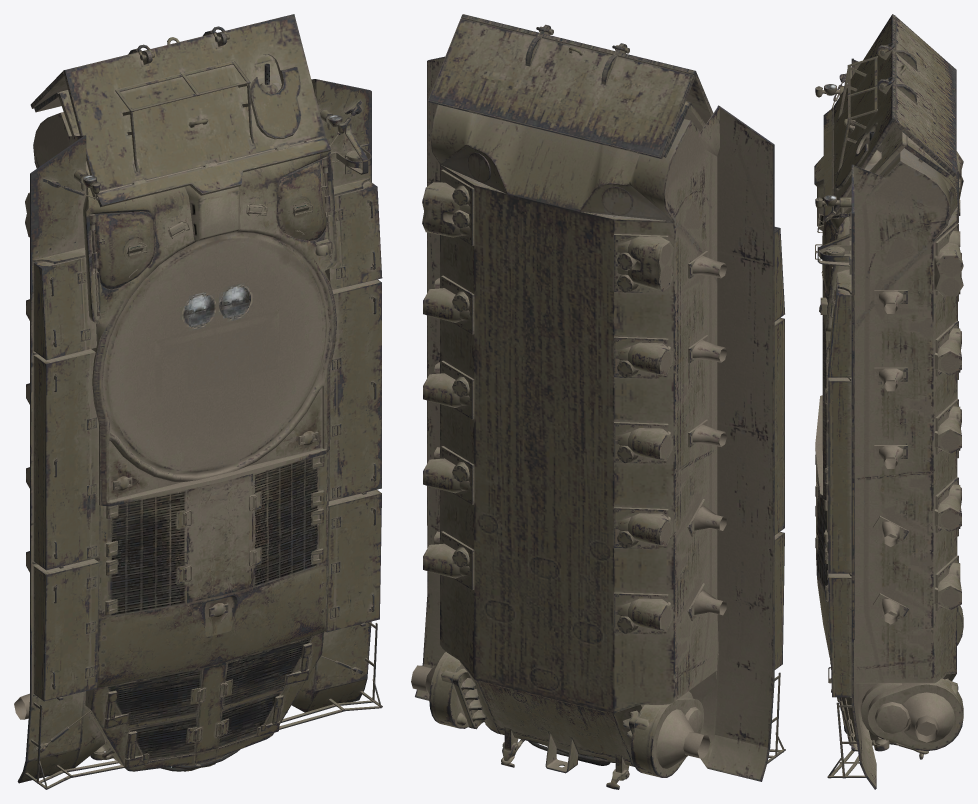
The model's file is Hull.glb.
The picture shows the model from 3 angles, left to right: view 1: azimuth 30°, elevation 25°; view 2: azimuth 150°, elevation 25°; view 3: azimuth 270°, elevation 25°; orthographic projection. The views are drawn at different scales.
Visible parts, largest first — view 1: set_0_group_0; view 2: set_0_group_0; view 3: set_0_group_0.
Part boxes in pixels (box(x1,y1,x2,y2)): set_0_group_0: box(14, 14, 382, 789); set_0_group_0: box(411, 14, 785, 789); set_0_group_0: box(814, 14, 963, 789).
Bounding box in the file's own units: 3.17 × 6.41 × 1.29.
Materials: 1 (1 with a texture image).
